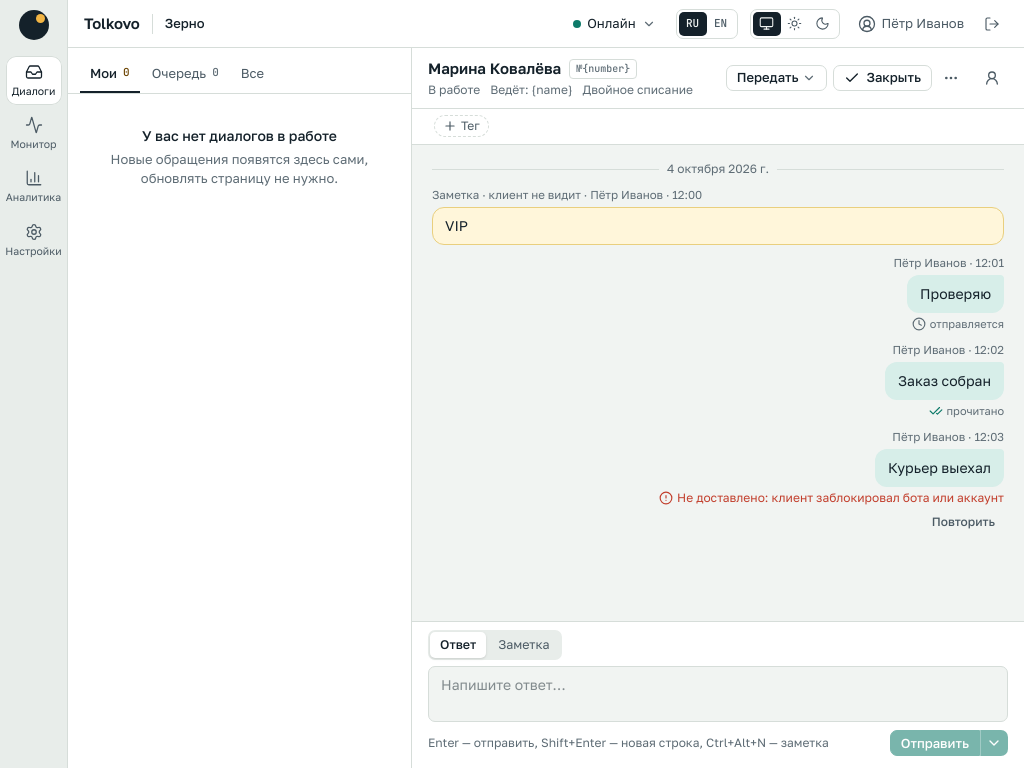
Test: inbox › shows how far replies got through Telegram and sends a failed one again
Expected: the text "Не доставлено: клиент заблокировал бота или аккаунт" is shown, [659,430,1004,534]
Click the button "Повторить".
click(963, 522)  # box [923,510,1004,534]
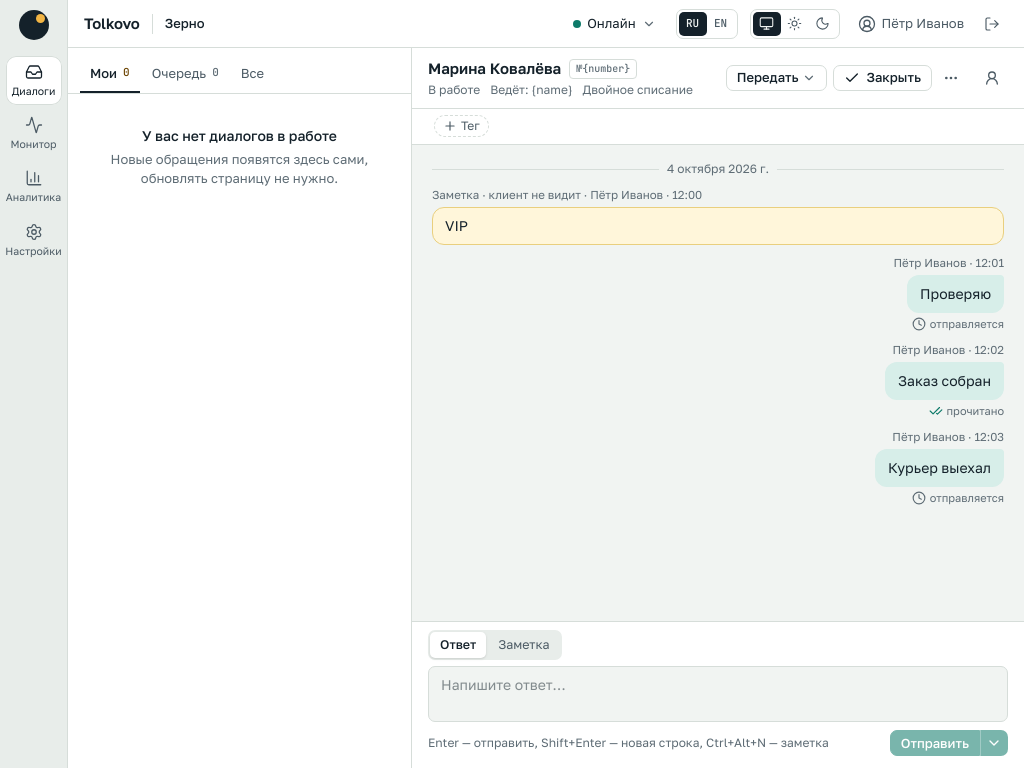
Expected: the text "отправляется" is shown 2 times, [912,316,1004,332]; [912,490,1004,506]
Expected: the text "Не доставлено" is gone
